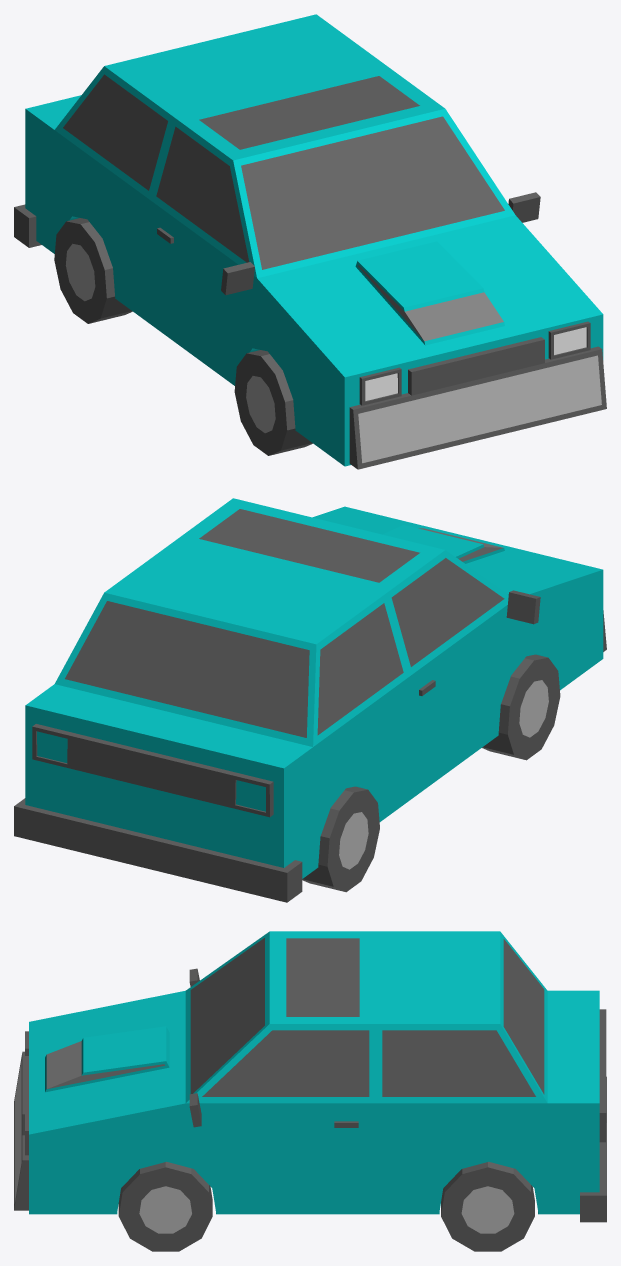
File: SM_Car_09_05.FBX
3 views of the same model, one above another, from view 1: azimuth 30°, elevation 25°; view 2: azimuth 150°, elevation 25°; view 3: azimuth 270°, elevation 25° (orthographic). The views are drawn at different scales.
Visible parts, largest first — view 1: SM_Car_09_05, SM_Wheel_LFront002, SM_Wheel_RBack001; view 2: SM_Car_09_05, SM_Wheel_LFront002, SM_Wheel_RBack001; view 3: SM_Car_09_05, SM_Wheel_LFront001, SM_Wheel_LBack001.
Boxes of the visible parts, x1,y1,x2,y2 form: SM_Car_09_05: [14, 14, 606, 469]; SM_Wheel_LFront002: [234, 350, 312, 455]; SM_Wheel_RBack001: [54, 218, 132, 323]; SM_Car_09_05: [14, 498, 606, 902]; SM_Wheel_LFront002: [482, 654, 560, 760]; SM_Wheel_RBack001: [302, 786, 379, 892]; SM_Car_09_05: [14, 931, 606, 1222]; SM_Wheel_LFront001: [118, 1161, 212, 1251]; SM_Wheel_LBack001: [441, 1161, 534, 1251].
Size of the model in its own units: 1.7 by 1.25 by 3.12.
1 material, 1 textured.
